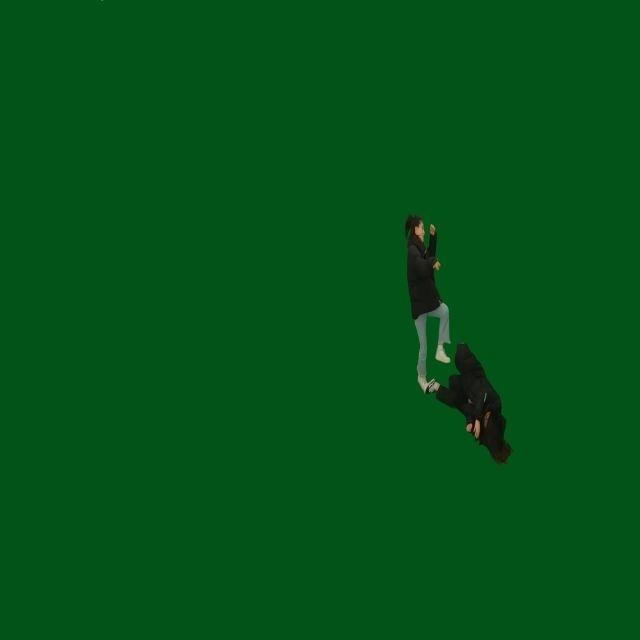fight: (404, 209, 510, 464)
